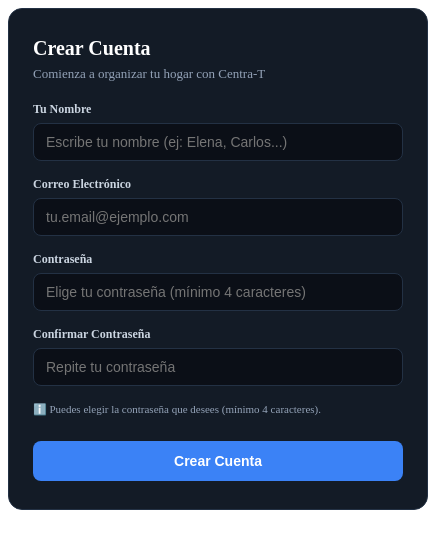
Test: PVF-A02.01 · RegisterTab (Componente de Registro y Caso Forense VV-009) › debe mostrar error inline si el formato del correo electrónico es inválido
Type "email-invalido" into the field labelled "Correo Electrónico" at (218, 217), box [33,198,403,236]
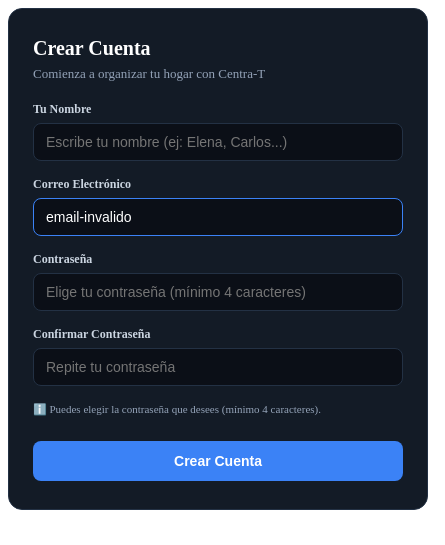
Type "Password123!" into the password field labelled "Contraseña" at (218, 292), box [33,273,403,311]
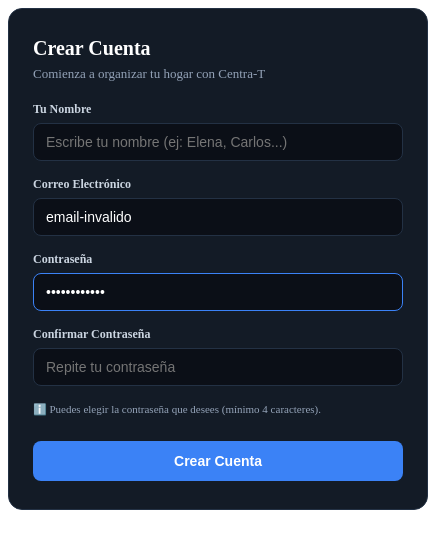
Type "Password123!" into the password field labelled "Confirmar Contraseña" at (218, 367), box [33,348,403,386]
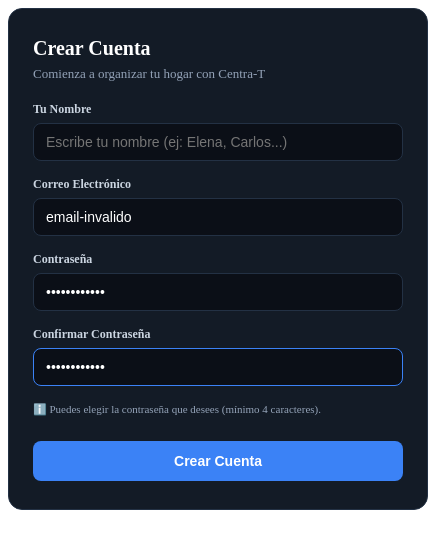
Click the button "Crear Cuenta" at (218, 461), box [33,441,403,481]
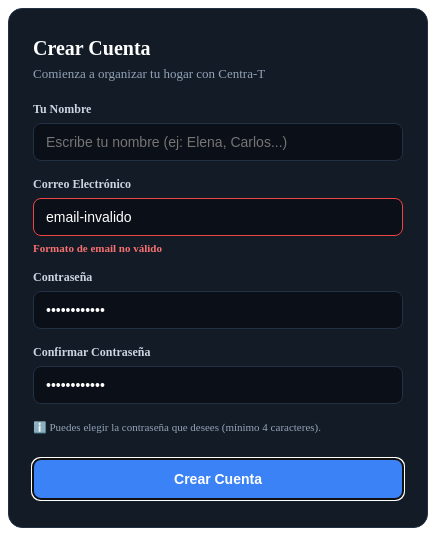
Now the text "Formato de email no válido" is shown, box [33,242,162,254]
